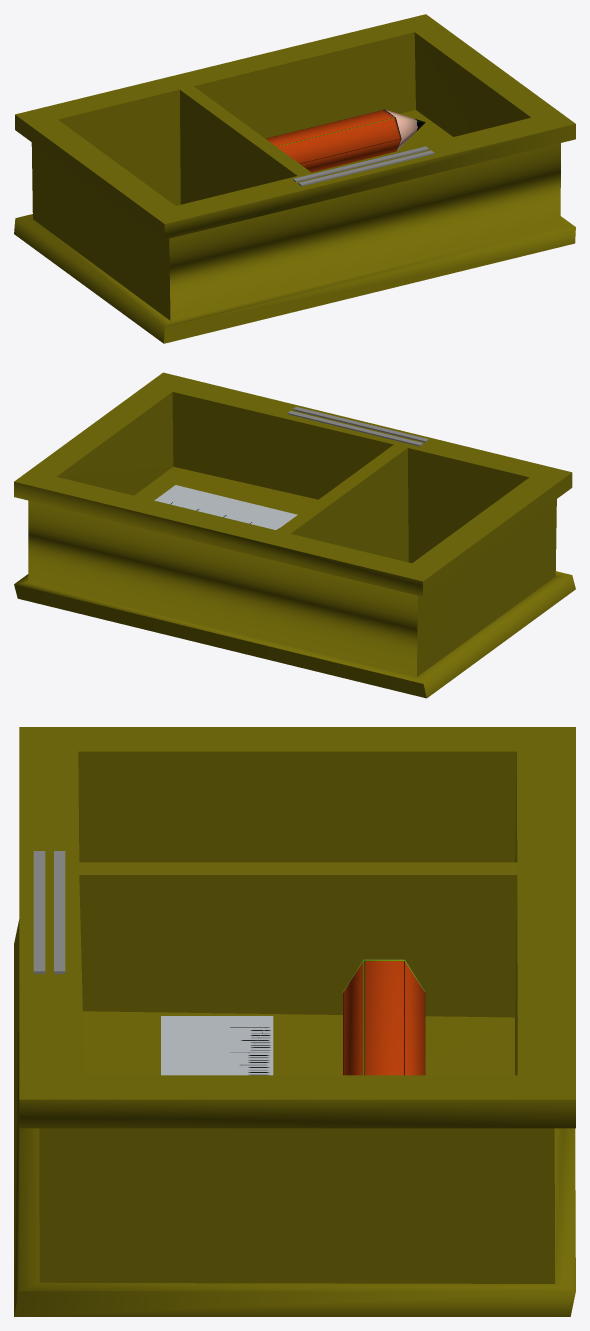
The model's file is OtherPencilCase2.FBX.
3 renders of one model, top to bottom at view 1: azimuth 30°, elevation 25°; view 2: azimuth 150°, elevation 25°; view 3: azimuth 270°, elevation 25°, orthographic. The views are drawn at different scales.
Parts seen in each view (by area): view 1: Case, Pencil1, Magnet1, Magnet2; view 2: Case, Ruler, Magnet1, Magnet2; view 3: Case, Pencil1, Ruler, Magnet1, Magnet2.
Part boxes in pixels (x1=…): Case: x1=14, y1=14, x2=575, y2=343; Pencil1: x1=266, y1=109, x2=425, y2=172; Magnet1: x1=298, y1=150, x2=434, y2=186; Magnet2: x1=293, y1=146, x2=428, y2=182; Case: x1=14, y1=372, x2=575, y2=698; Ruler: x1=154, y1=485, x2=297, y2=530; Magnet1: x1=293, y1=407, x2=428, y2=442; Magnet2: x1=287, y1=411, x2=422, y2=446; Case: x1=14, y1=727, x2=575, y2=1316; Pencil1: x1=343, y1=959, x2=425, y2=1075; Ruler: x1=161, y1=1016, x2=273, y2=1075; Magnet1: x1=33, y1=851, x2=45, y2=973; Magnet2: x1=54, y1=851, x2=65, y2=973.
Size of the model in its own units: 155 by 43.14 by 98.56.
4 materials, 2 textured.
